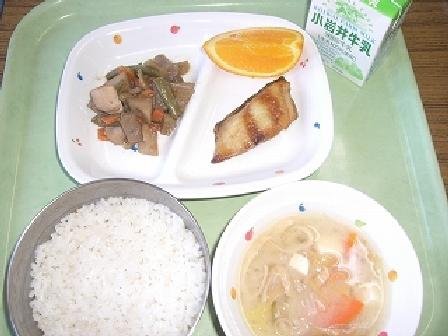Citrus: (190, 10, 308, 85)
Fish: (204, 72, 307, 169)
Milk: (301, 0, 415, 78)
Rice: (8, 180, 202, 335)
Soups: (216, 189, 425, 335)
vegetable based cooked food: (82, 49, 194, 154)
